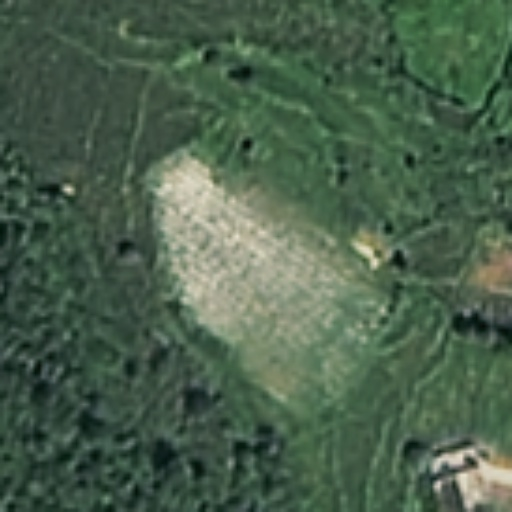landslide: (148, 152, 365, 372)
